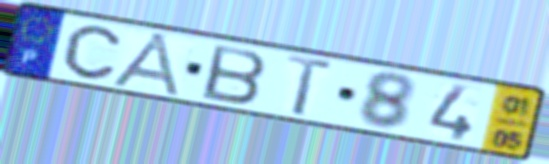4: (427, 81, 478, 143)
8: (356, 70, 418, 134)
A: (106, 30, 186, 99)
B: (200, 42, 270, 107)
C: (61, 24, 124, 83)
T: (283, 52, 338, 119)
